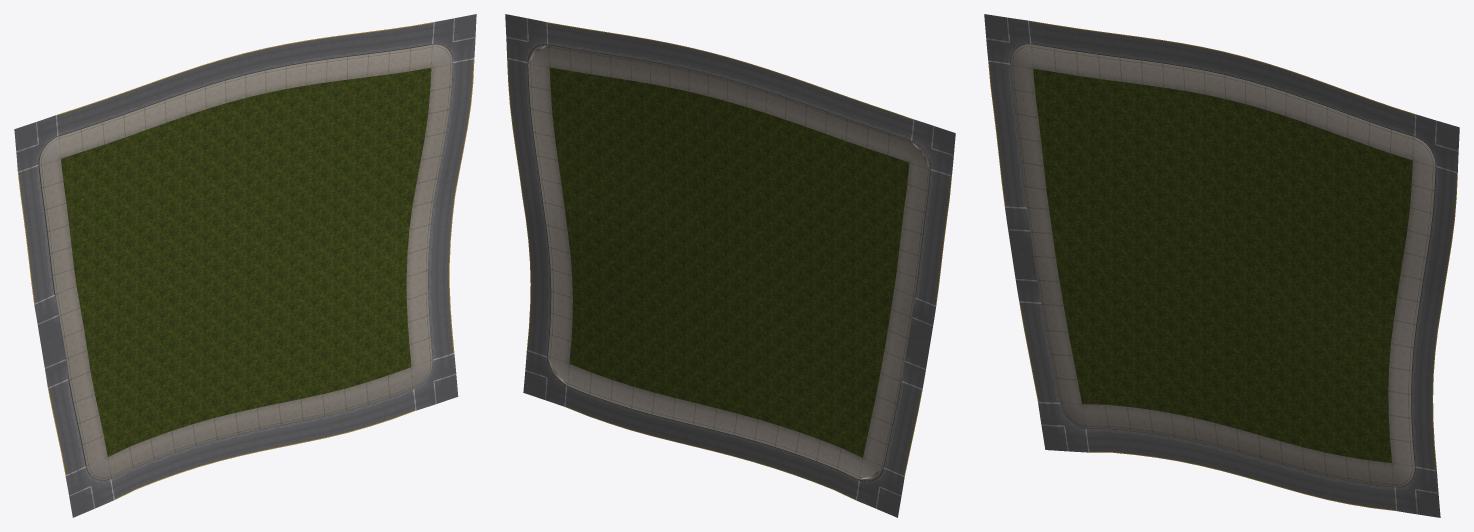
File: block4.obj
3 renders of one model, left to right at view 1: azimuth 30°, elevation 25°; view 2: azimuth 150°, elevation 25°; view 3: azimuth 330°, elevation 25°, orthographic. The views are drawn at different scales.
Parts seen in each view (by area): view 1: block4; view 2: block4; view 3: block4.
Part boxes in pixels (bbox=[...]): block4: bbox=[14, 14, 476, 517]; block4: bbox=[505, 14, 955, 517]; block4: bbox=[984, 14, 1459, 517].
Size of the model in its own units: 107 by 93.99 by 1.69.
